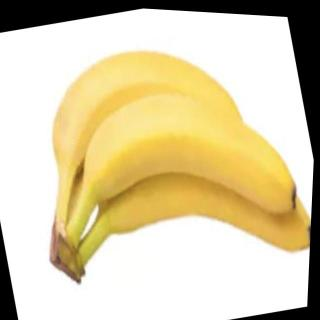banana: (67, 60, 308, 256), (88, 118, 316, 294), (33, 20, 255, 186)
